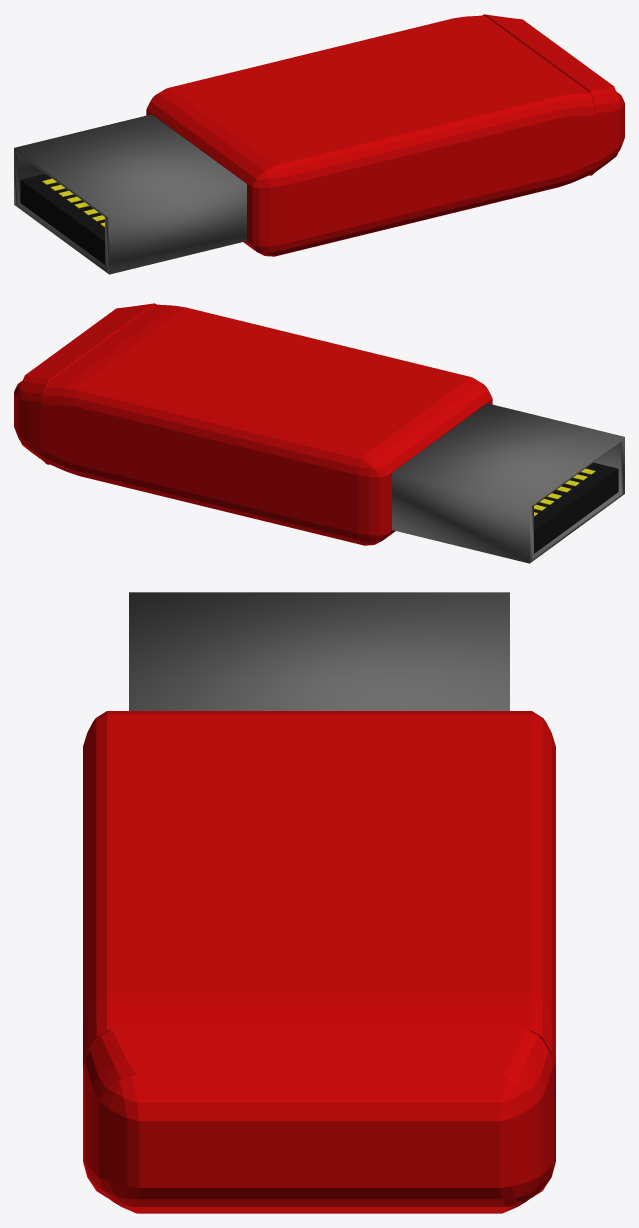
File: USB.obj
The picture shows the model from 3 angles, top to bottom: view 1: azimuth 30°, elevation 25°; view 2: azimuth 150°, elevation 25°; view 3: azimuth 270°, elevation 25°; orthographic projection. The views are drawn at different scales.
Parts seen in each view (by area): view 1: BOX_Cube.001, USB_CONNECTOR_Cube.002, PINS_Cube.004; view 2: BOX_Cube.001, USB_CONNECTOR_Cube.002, PINS_Cube.004; view 3: BOX_Cube.001, USB_CONNECTOR_Cube.002.
Part boxes in pixels (box(x1,y1,x2,y2)): BOX_Cube.001: box(146, 14, 624, 256); USB_CONNECTOR_Cube.002: box(14, 114, 246, 274); PINS_Cube.004: box(42, 178, 104, 227); BOX_Cube.001: box(14, 303, 492, 545); USB_CONNECTOR_Cube.002: box(392, 403, 624, 563); PINS_Cube.004: box(534, 468, 595, 516); BOX_Cube.001: box(83, 711, 555, 1213); USB_CONNECTOR_Cube.002: box(129, 592, 509, 710).
Bounding box in the file's own units: 0.1972 × 0.0331 × 0.0781.
